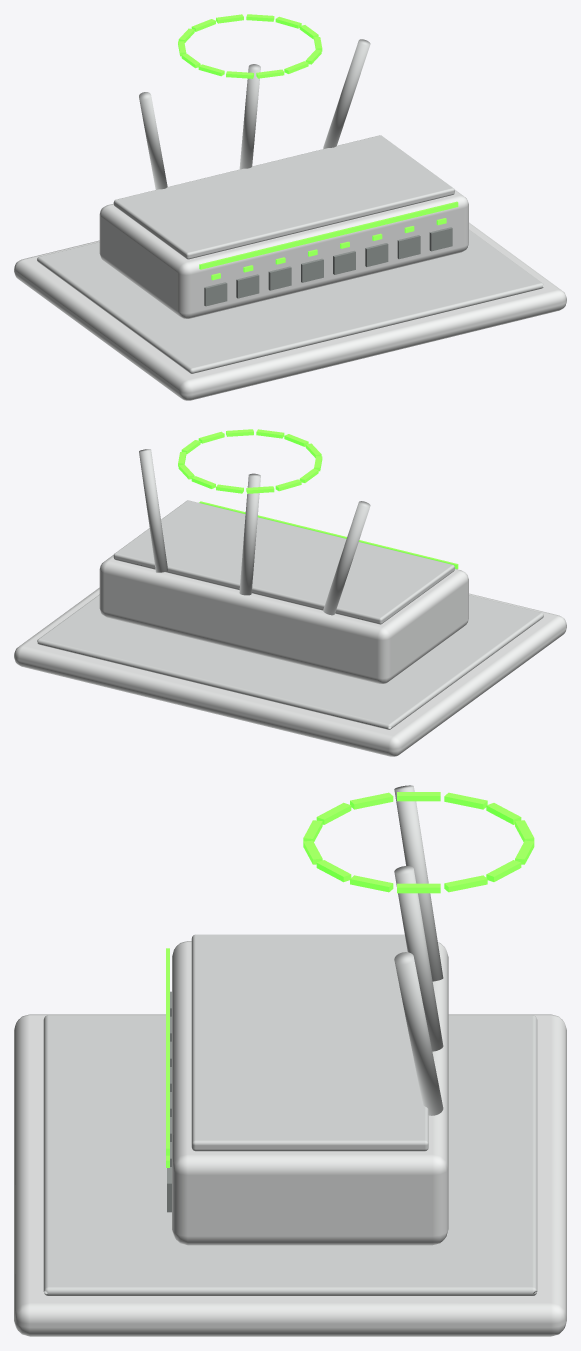
File: component-gateway.glb
3 renders of one model, top to bottom at view 1: azimuth 30°, elevation 25°; view 2: azimuth 150°, elevation 25°; view 3: azimuth 270°, elevation 25°, orthographic. The views are drawn at different scales.
Visible parts, largest first — view 1: gateway_paving, router_top, router_body, gateway_podium, router_status, router_antenna_0.9, router_antenna_0.0, router_antenna_-0.9; view 2: router_body, gateway_paving, router_top, gateway_podium, router_antenna_0.9, router_antenna_-0.9, router_antenna_0.0, router_status; view 3: gateway_paving, router_top, gateway_podium, router_body, router_antenna_0.9, router_antenna_0.0, router_antenna_-0.9, router_status.
Part boxes in pixels (<box>): gateway_paving: <box>37,229,543,373</box>; router_top: <box>113,135,454,259</box>; router_body: <box>99,189,468,318</box>; gateway_podium: <box>14,222,566,400</box>; router_status: <box>199,201,458,269</box>; router_antenna_0.9: <box>323,39,370,148</box>; router_antenna_0.0: <box>239,64,260,169</box>; router_antenna_-0.9: <box>139,92,167,189</box>; router_body: <box>99,554,468,683</box>; gateway_paving: <box>37,594,543,729</box>; router_top: <box>113,500,454,624</box>; gateway_podium: <box>14,587,566,756</box>; router_antenna_0.9: <box>139,449,167,572</box>; router_antenna_-0.9: <box>323,501,370,615</box>; router_antenna_0.0: <box>239,473,260,595</box>; router_status: <box>199,501,458,569</box>; gateway_paving: <box>43,1015,537,1295</box>; router_top: <box>191,934,428,1151</box>; gateway_podium: <box>14,1014,566,1336</box>; router_body: <box>172,941,448,1245</box>; router_antenna_0.9: <box>394,952,443,1115</box>; router_antenna_0.0: <box>394,866,443,1051</box>; router_antenna_-0.9: <box>394,785,443,981</box>; router_status: <box>166,948,169,1155</box>.
Size of the model in its own units: 3.6 by 1.97 by 2.8.
